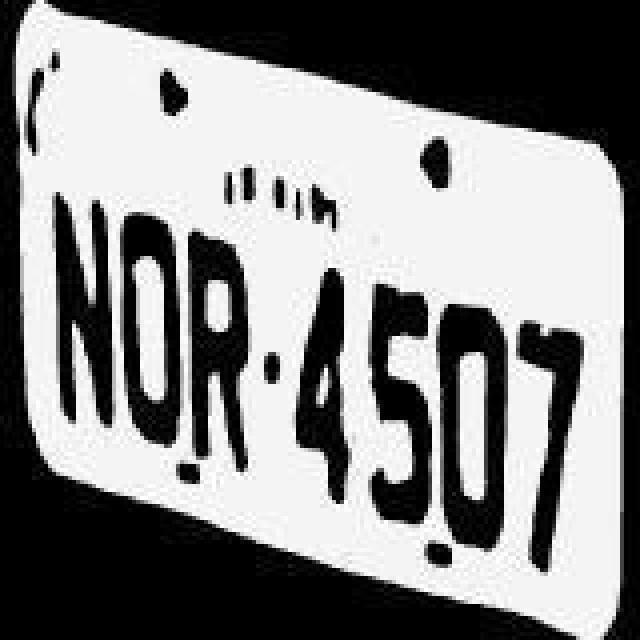4: (286, 262, 354, 514)
5: (362, 268, 438, 532)
7: (514, 306, 590, 590)
N: (42, 184, 118, 448)
O: (434, 292, 510, 556), (116, 198, 188, 458)
R: (184, 224, 264, 472)
